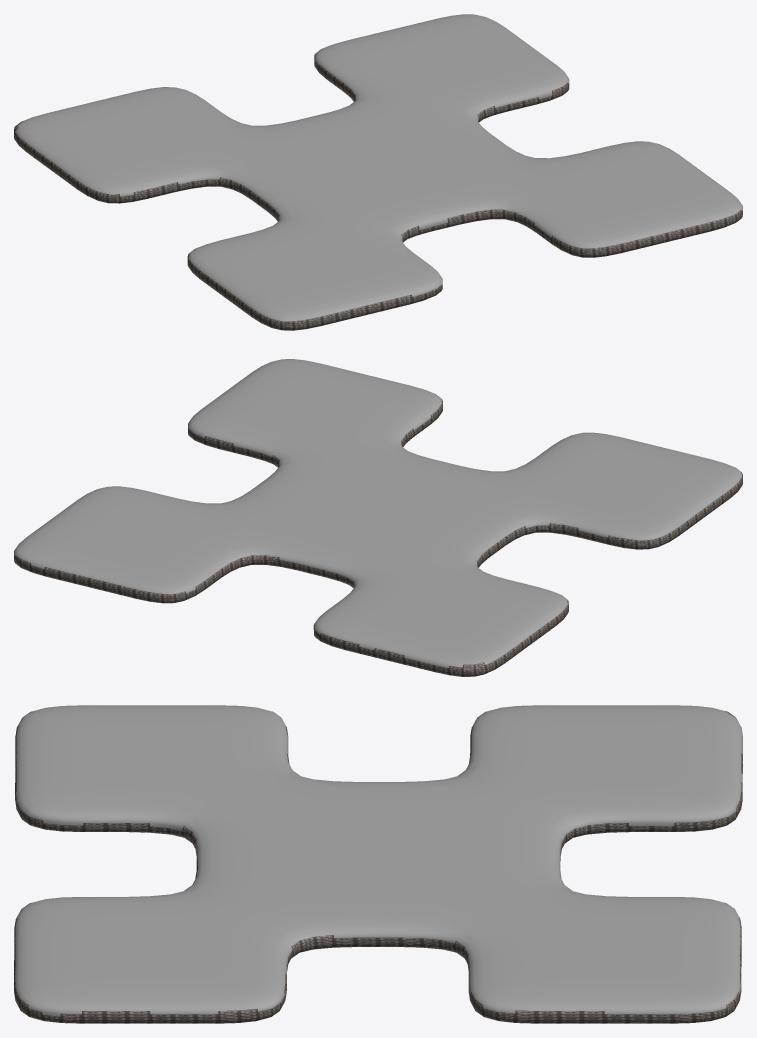
Rendered from GoldenPuzzle-13-FFFF.obj.
3 renders of one model, top to bottom at view 1: azimuth 30°, elevation 25°; view 2: azimuth 150°, elevation 25°; view 3: azimuth 270°, elevation 25°, orthographic. The views are drawn at different scales.
Parts seen in each view (by area): view 1: Puzzle.013_Puzzle.013_GoldenEggMaterial; view 2: Puzzle.013_Puzzle.013_GoldenEggMaterial; view 3: Puzzle.013_Puzzle.013_GoldenEggMaterial.
Part boxes in pixels (left/top/right/bottom): Puzzle.013_Puzzle.013_GoldenEggMaterial: left=14, top=14, right=742, bottom=330; Puzzle.013_Puzzle.013_GoldenEggMaterial: left=14, top=359, right=742, bottom=676; Puzzle.013_Puzzle.013_GoldenEggMaterial: left=14, top=705, right=742, bottom=1023.
Size of the model in its own units: 0.25 by 0.00924 by 0.2514.
